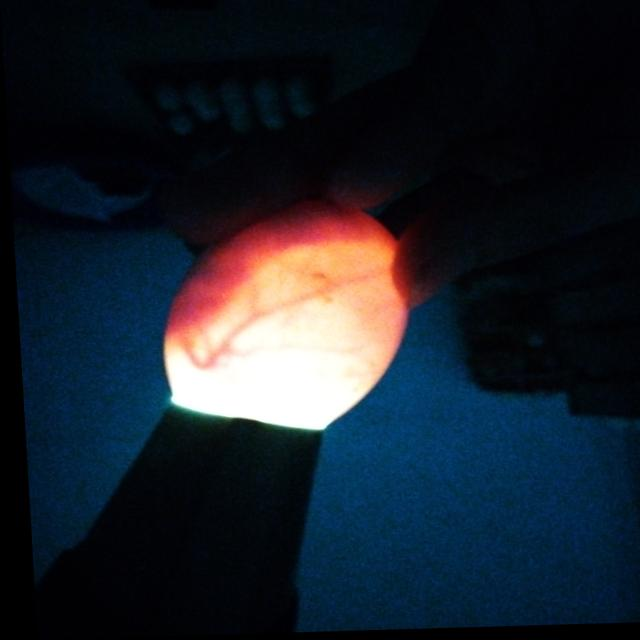Embriao: (164, 197, 389, 333)
